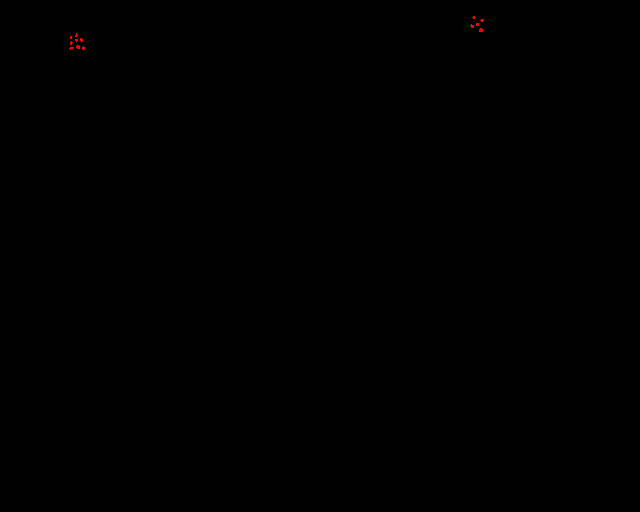Target: (479, 28, 484, 32), (470, 24, 474, 28), (76, 45, 80, 49), (69, 47, 74, 50), (472, 16, 476, 19), (480, 19, 484, 22), (75, 33, 78, 37), (80, 38, 83, 42), (70, 41, 73, 45), (82, 46, 85, 50), (476, 23, 479, 26), (75, 39, 78, 42), (70, 36, 72, 39)
